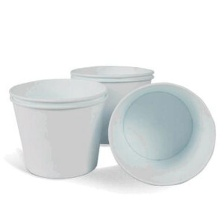paper_cup: (103, 78, 223, 189), (3, 73, 110, 184), (65, 59, 159, 147)
